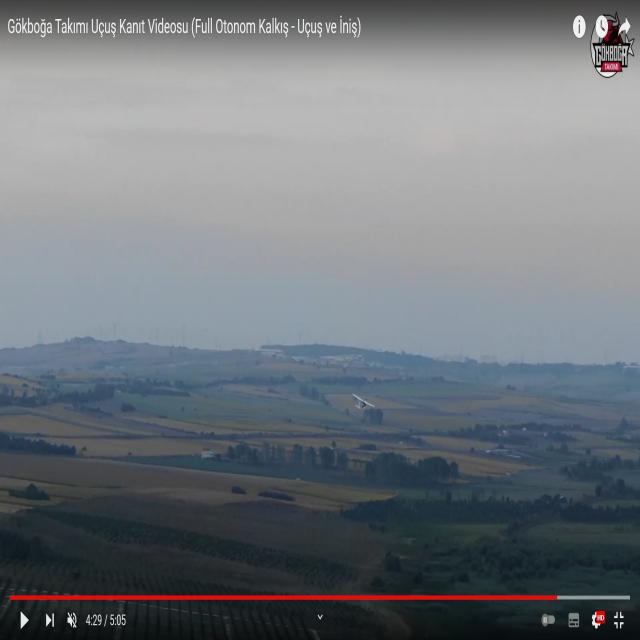iha: (355, 390, 375, 418)
